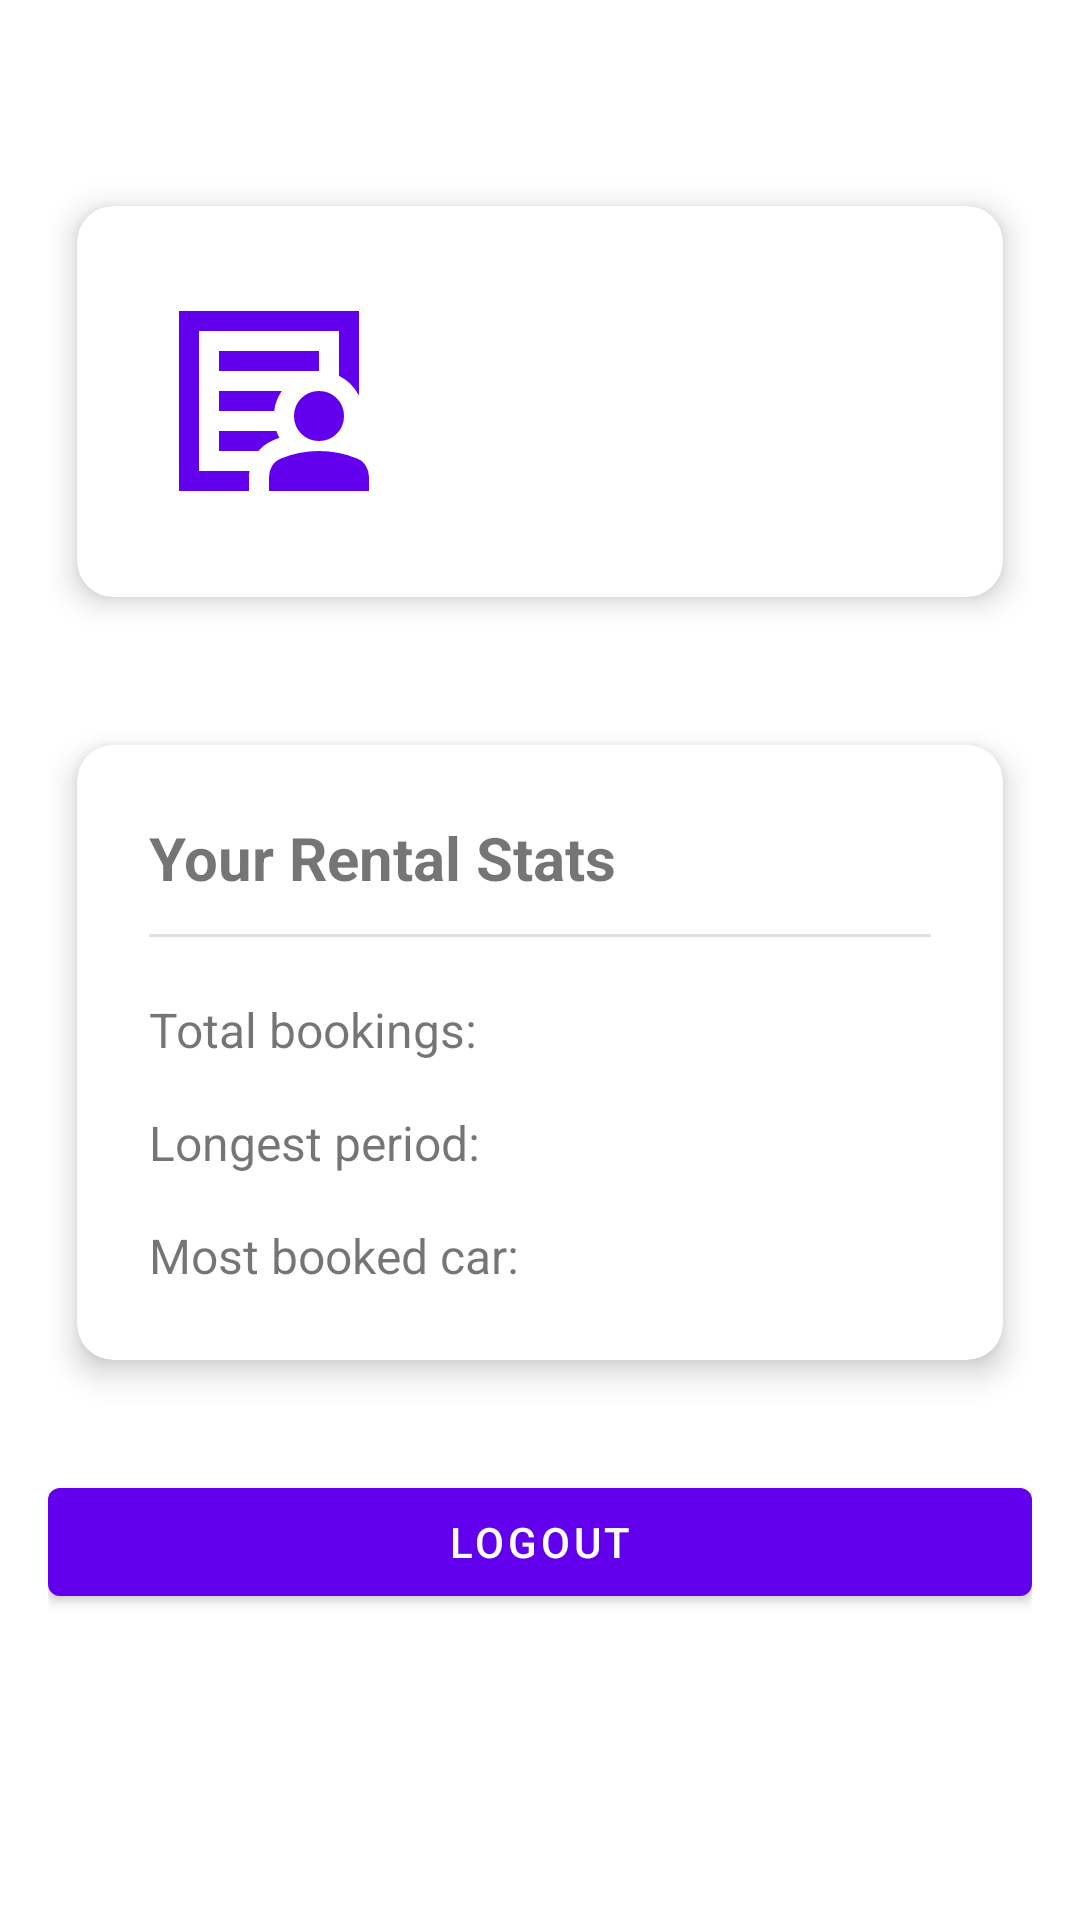

Screen size 1080px x 1920px. Icon name, then its box in pixels as (x1, y1, x2, y2):
person: (179, 311, 369, 491)
